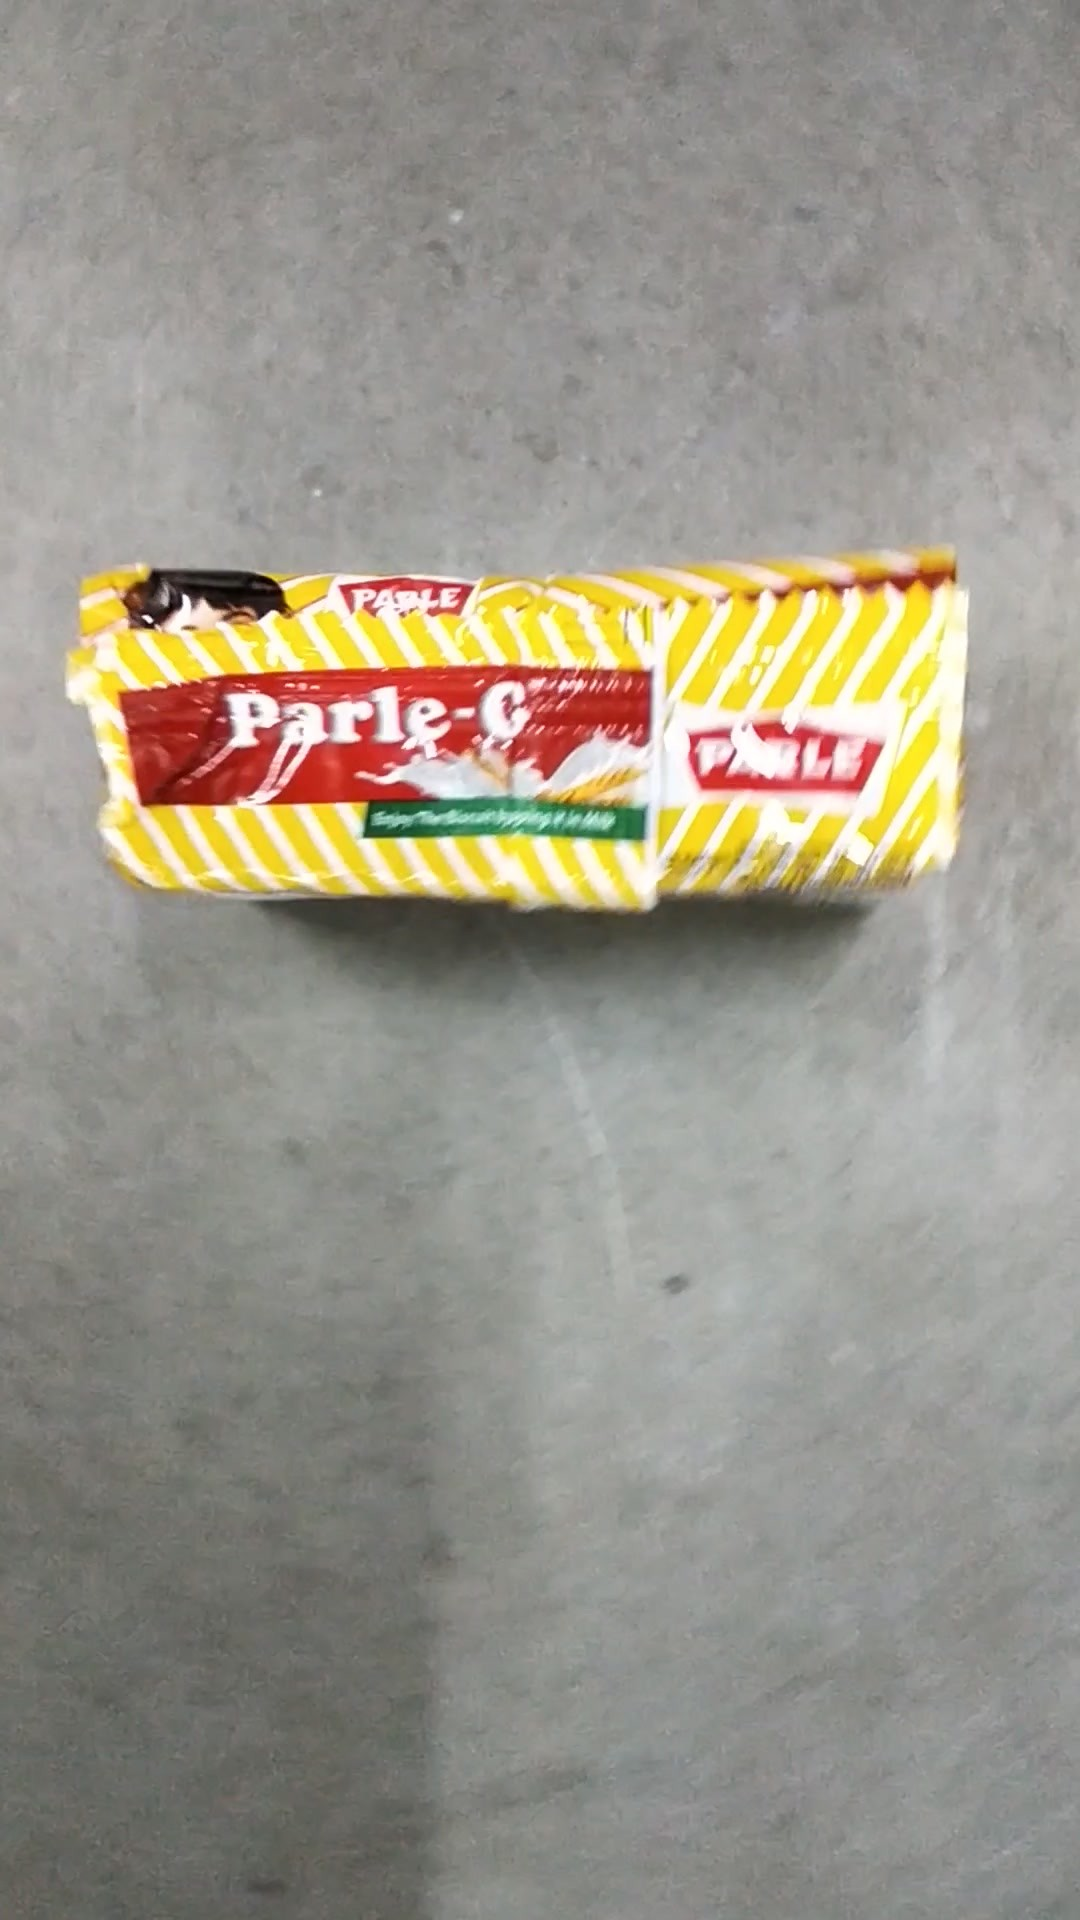parle-g-b: (94, 587, 935, 869)
